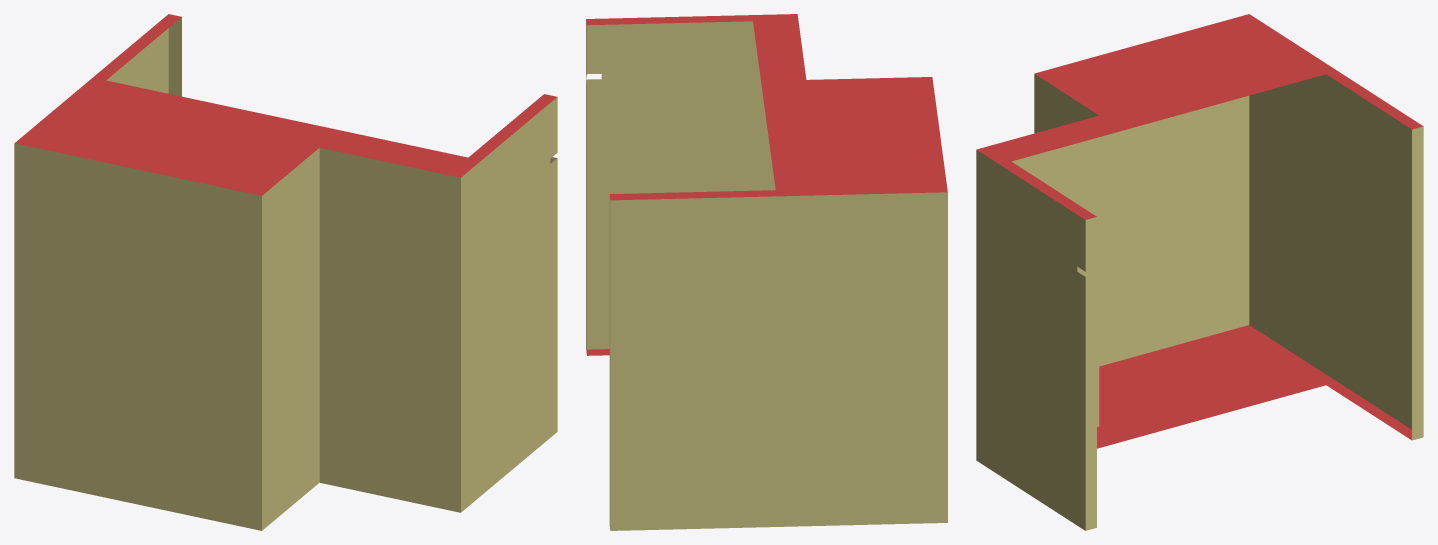
3 views of the same model, side by side, from view 1: azimuth 30°, elevation 25°; view 2: azimuth 150°, elevation 25°; view 3: azimuth 270°, elevation 25° (orthographic). The views are drawn at different scales.
Bounding box in the file's own units: 8.79 × 8.06 × 6.19.
